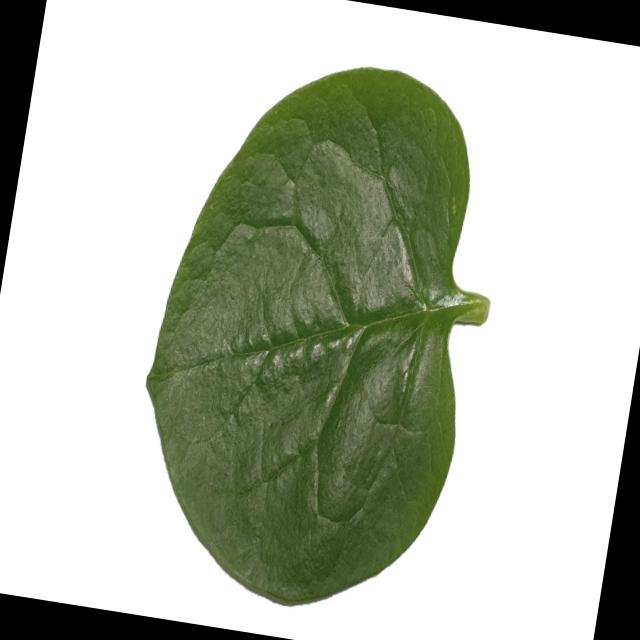Medicinal-Basale: (112, 38, 524, 632)
